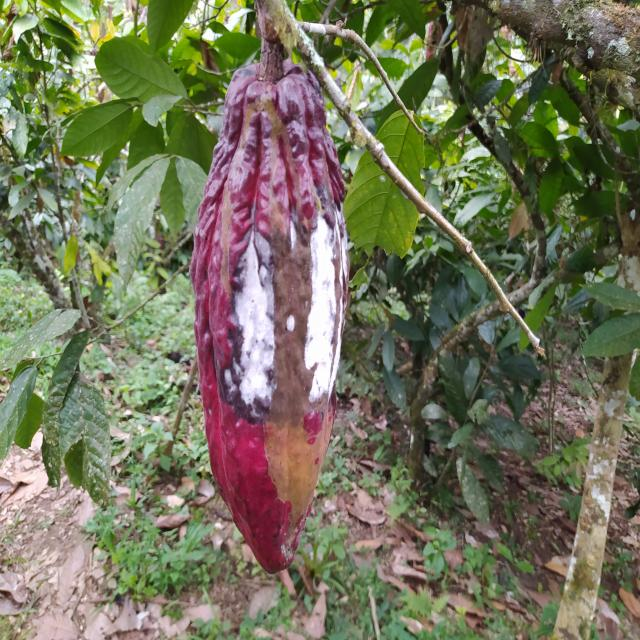Monilia: (194, 72, 348, 575)
